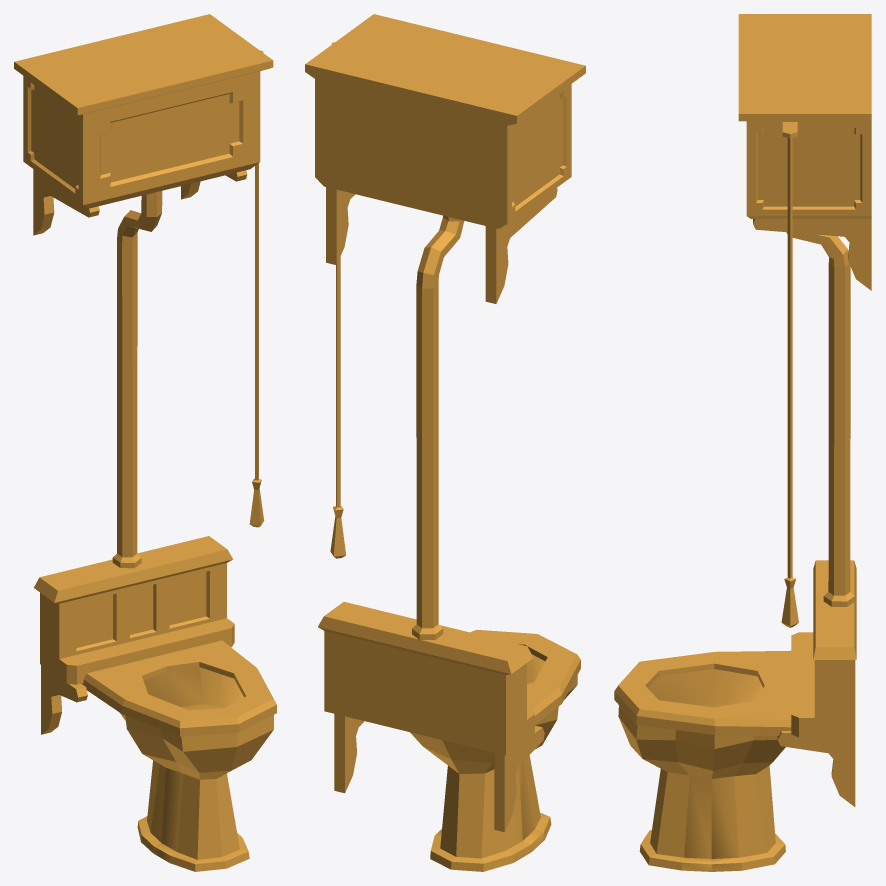
File: SM_Toilet_Victorian_A.fbx
3 views of the same model, side by side, from view 1: azimuth 30°, elevation 25°; view 2: azimuth 150°, elevation 25°; view 3: azimuth 270°, elevation 25° (orthographic). The views are drawn at different scales.
Parts seen in each view (by area): view 1: toilet-victorian-a; view 2: toilet-victorian-a; view 3: toilet-victorian-a.
Boxes of the visible parts, bbox=[...] form: toilet-victorian-a: bbox=[14, 14, 276, 871]; toilet-victorian-a: bbox=[305, 14, 585, 871]; toilet-victorian-a: bbox=[614, 14, 871, 871].
Bounding box in the file's own units: 0.6848 × 2.33 × 0.6896.
